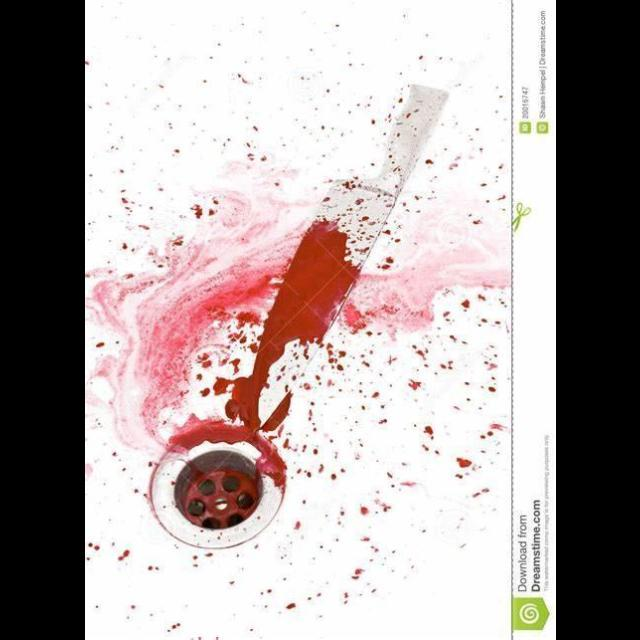blood: (92, 86, 448, 550), (225, 286, 509, 608), (97, 63, 297, 268), (344, 244, 511, 330), (432, 126, 494, 239), (404, 212, 437, 248)
